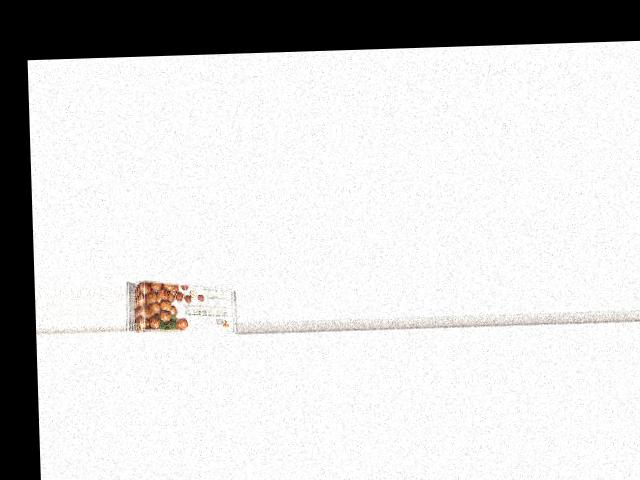chocolate: (126, 277, 238, 334)
